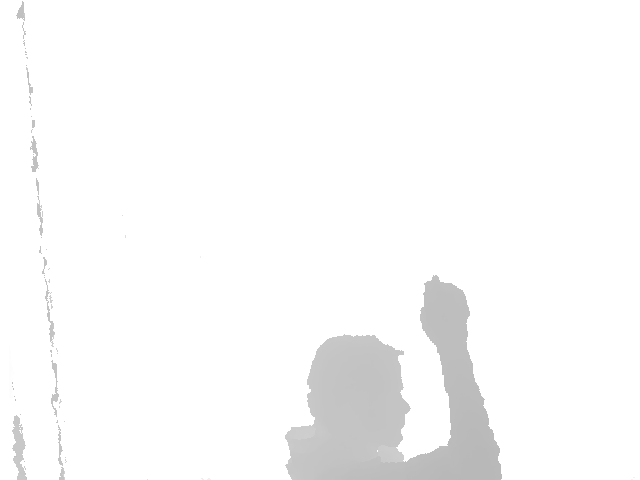hand: (419, 274, 472, 353)
head: (307, 335, 411, 447)
person: (285, 274, 503, 480)
